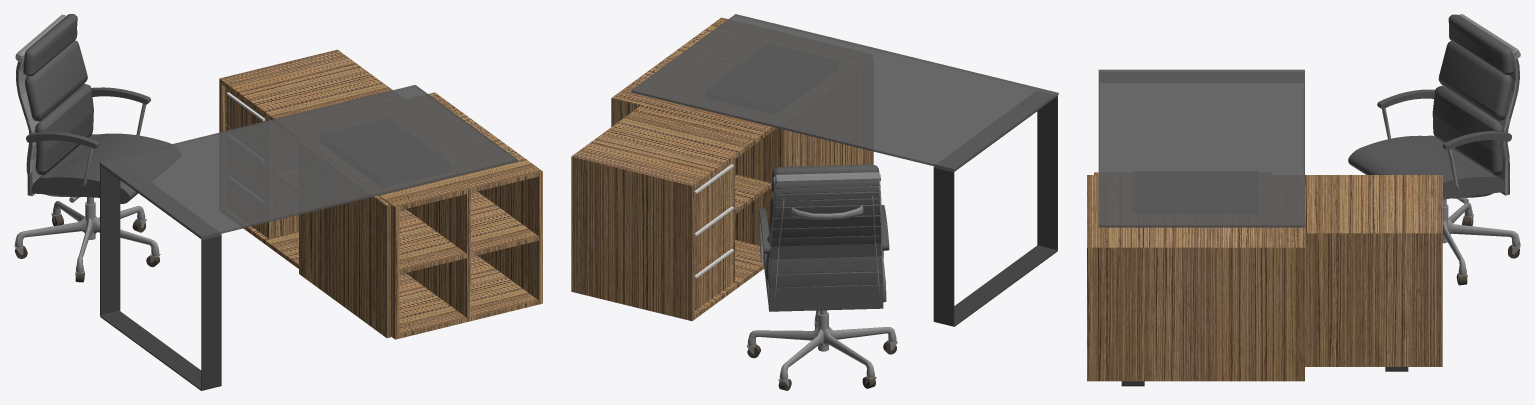
File: desk-160-drawers-left.glb
3 views of the same model, side by side, from view 1: azimuth 30°, elevation 25°; view 2: azimuth 150°, elevation 25°; view 3: azimuth 270°, elevation 25° (orthographic). The views are drawn at different scales.
Visible parts, largest first — view 1: Geom3D (×4), Geom3D_ (×2); view 2: Geom3D (×5), Geom3D_ (×2); view 3: Geom3D (×2), Geom3D_ (×2).
Boxes of the visible parts, x1,y1,x2,y2 form: Geom3D (×4): (15, 49, 542, 390); Geom3D_ (×2): (14, 14, 171, 277); Geom3D (×5): (571, 14, 1058, 390); Geom3D_ (×2): (746, 164, 897, 386); Geom3D (×2): (1087, 69, 1442, 381); Geom3D_ (×2): (1348, 14, 1520, 280).
Size of the model in its own units: 1.73 by 1.03 by 1.88.
Materials: 8 (1 with a texture image).
